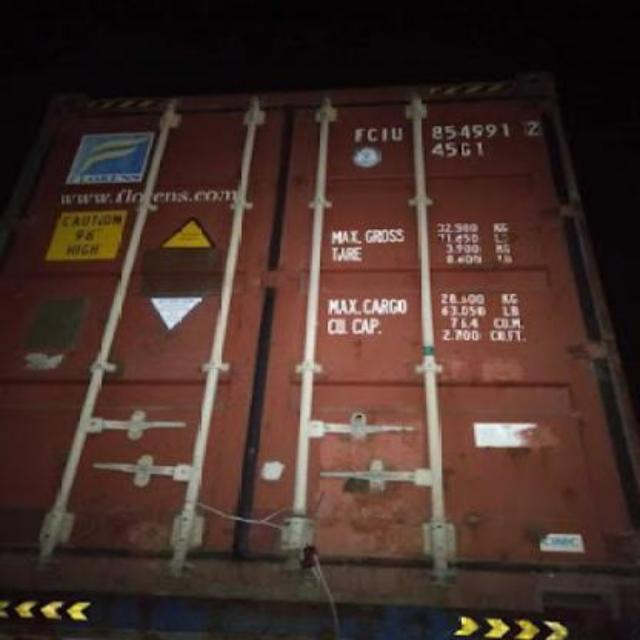1: (498, 120, 512, 138)
2: (524, 119, 540, 137)
4: (458, 125, 472, 138)
5: (446, 123, 458, 141)
8: (432, 123, 444, 141)
9: (484, 120, 498, 138), (472, 122, 484, 140)
C: (368, 126, 378, 140)
F: (352, 126, 366, 140)
I: (378, 128, 392, 142)
U: (392, 126, 404, 140)
